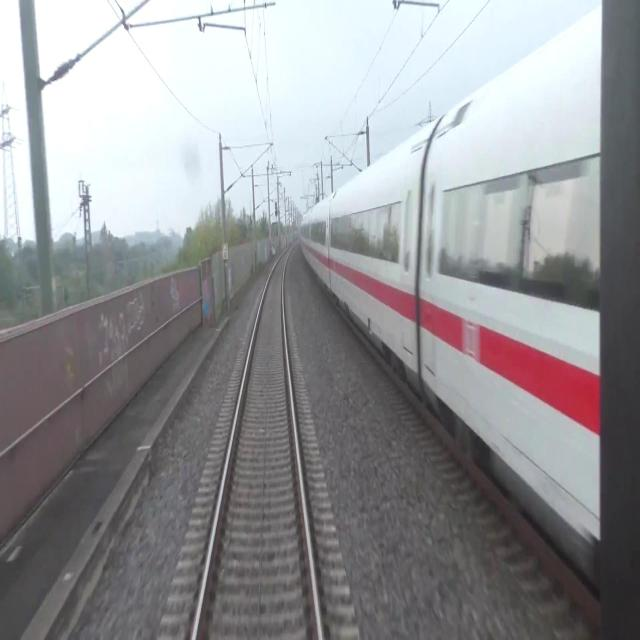rail-track: (195, 238, 318, 639)
